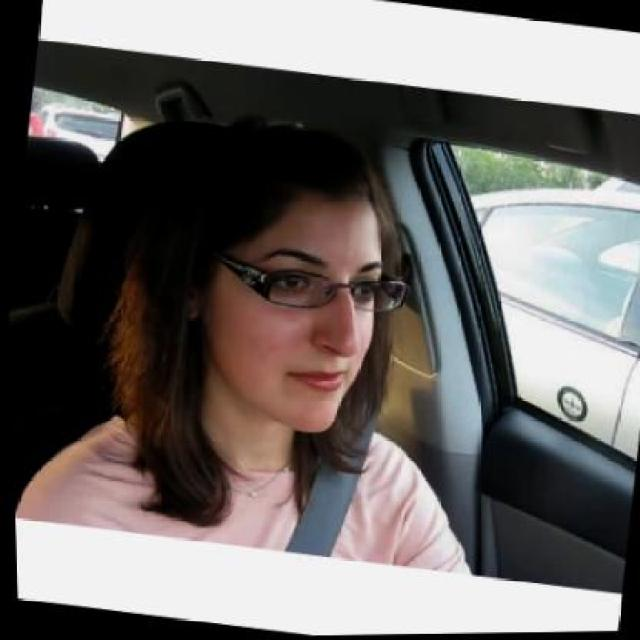attentif: (158, 123, 400, 440)
